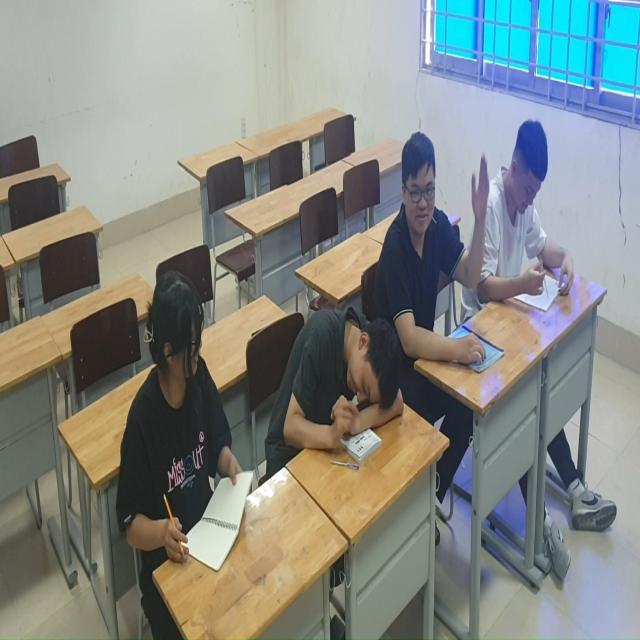raise_hand: (376, 134, 491, 380)
read: (121, 271, 260, 576), (486, 118, 577, 313)
sleep: (266, 303, 412, 474)
